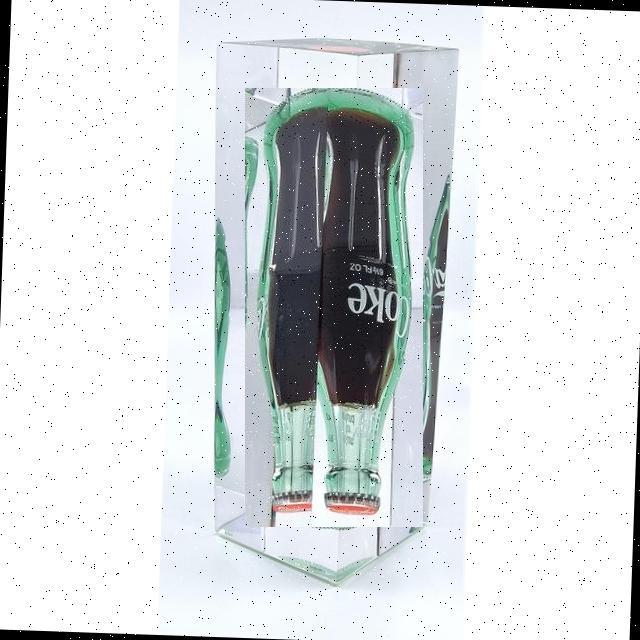coca-cola: (245, 88, 423, 527)
